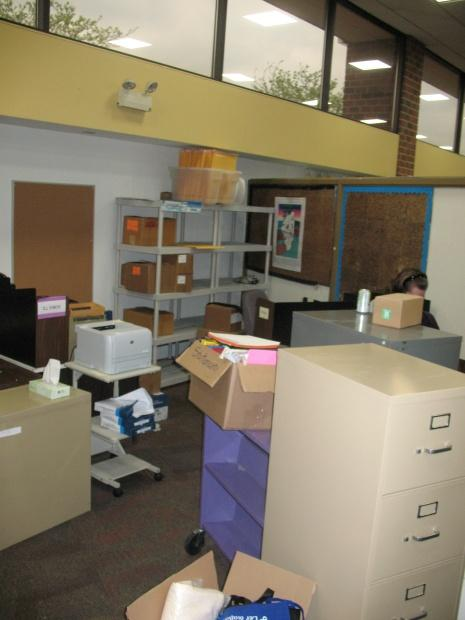Filing Cabinet: (261, 342, 464, 619)
Rak: (111, 194, 276, 332)
